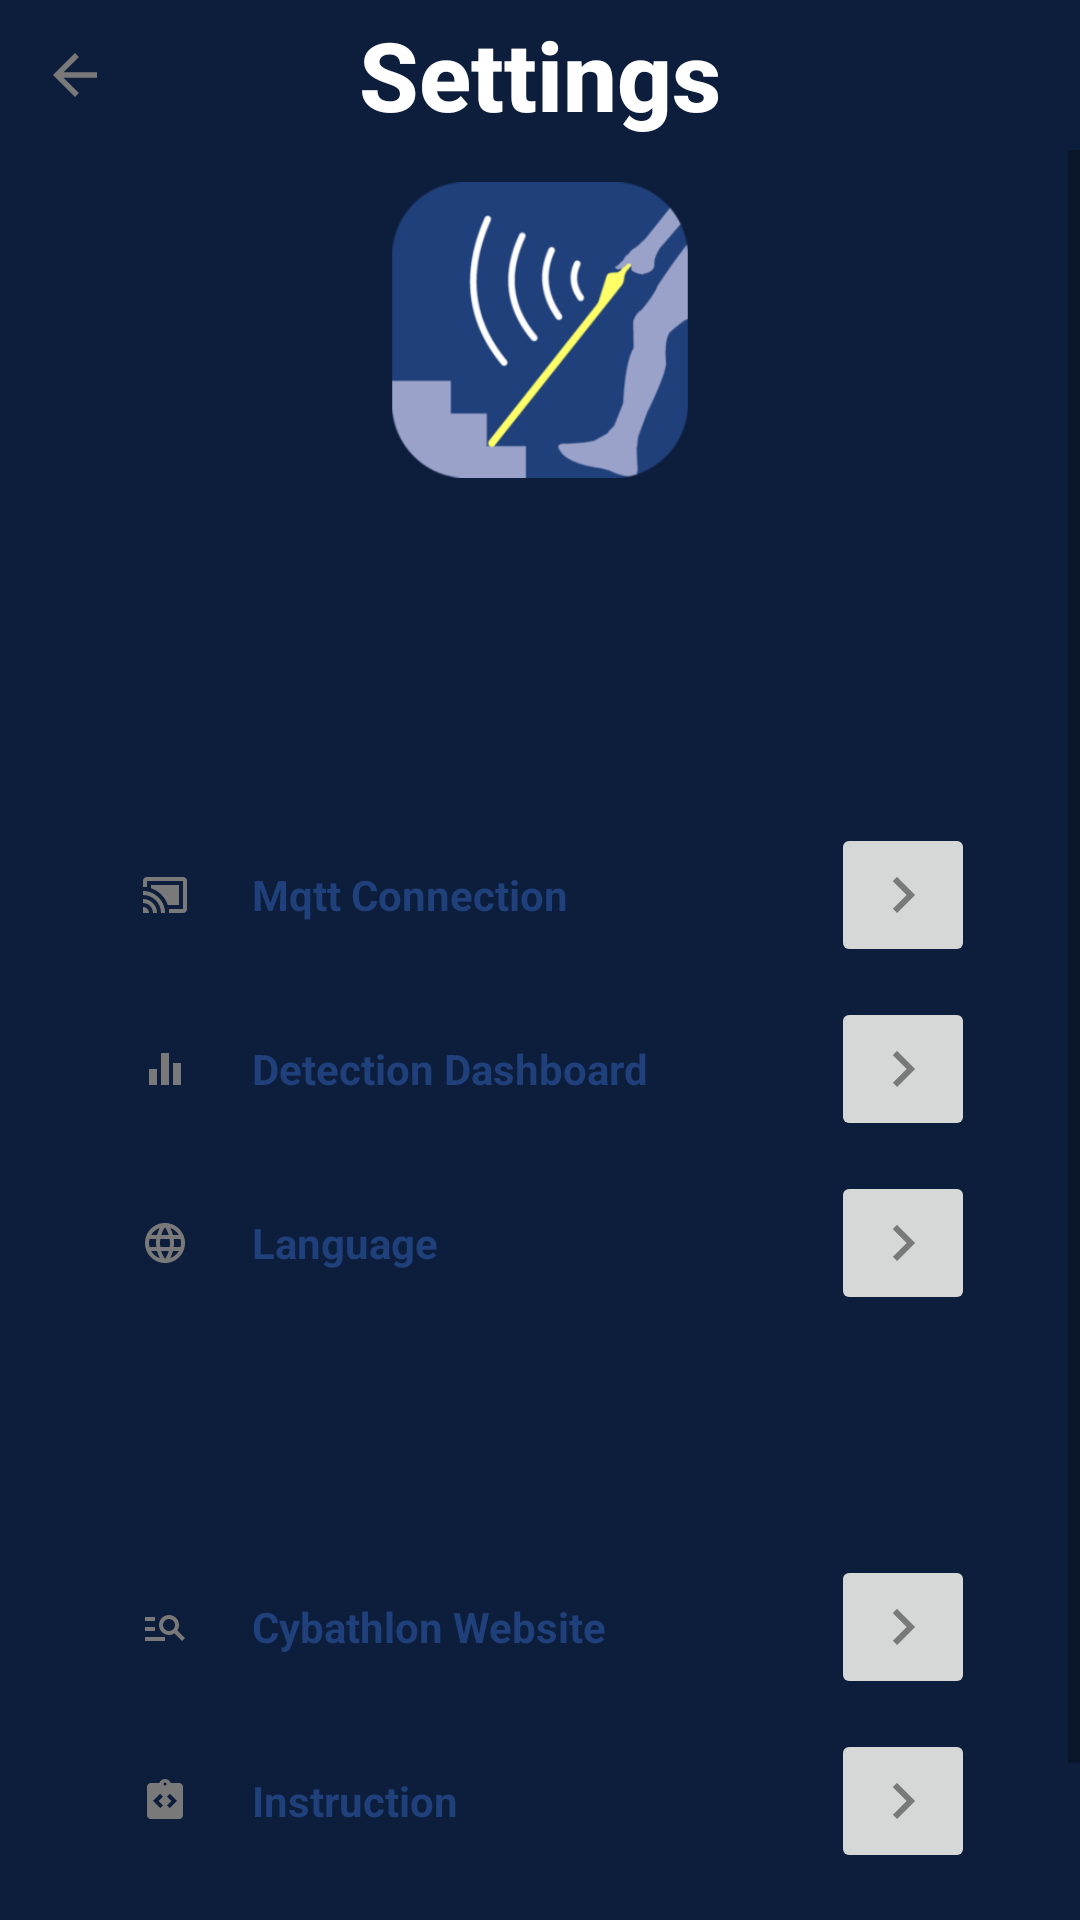

Named icons in this screenshot (1080*1920) and their bounding boxes, {"x1": x1, "y1": y1, "x2": x2, "y2": y2}:
arrow back: {"x1": 53, "y1": 53, "x2": 97, "y2": 97}
integration: {"x1": 147, "y1": 1779, "x2": 183, "y2": 1819}
search: {"x1": 145, "y1": 1615, "x2": 185, "y2": 1641}
